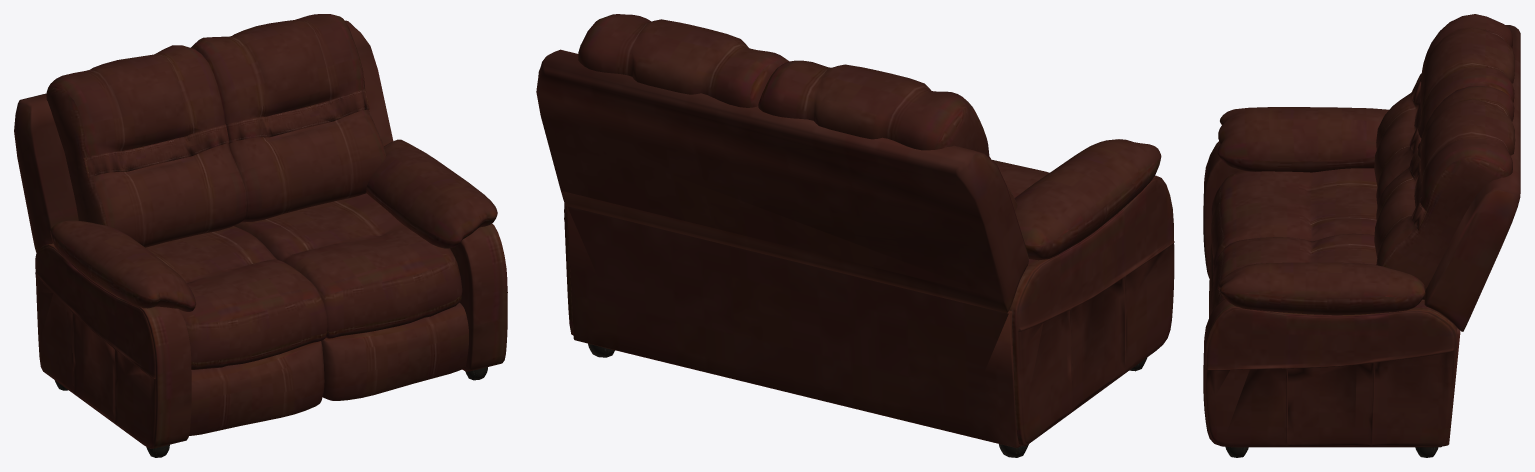
File: sofa-5.glb
3 renders of one model, left to right at view 1: azimuth 30°, elevation 25°; view 2: azimuth 150°, elevation 25°; view 3: azimuth 270°, elevation 25°, orthographic. The views are drawn at different scales.
Parts seen in each view (by area): view 1: pillow02, Pillow_l, Pillow_r, pCube36, pillow01, Hand_rest, back_frame; view 2: back_frame, pCube36, Pillow_l, Pillow_r, Hand_rest, pillow02; view 3: pCube36, Hand_rest, Pillow_r, pillow02, Pillow_l, back_frame, Legs.
Boxes of the visible parts, x1,y1,x2,y2 form: pillow02: (145,193,462,369); Pillow_l: (46,45,246,247); Pillow_r: (191,14,386,222); pCube36: (35,223,507,448); pillow01: (189,302,468,435); Hand_rest: (50,139,497,311); back_frame: (14,20,393,252); back_frame: (536,49,1028,447); pCube36: (564,175,1174,446); Pillow_l: (758,60,1017,211); Pillow_r: (578,14,788,107); Hand_rest: (1014,139,1161,260); pillow02: (992,160,1049,197); pCube36: (1203,141,1457,447); Hand_rest: (1217,107,1425,315); Pillow_r: (1374,86,1515,299); pillow02: (1211,168,1377,313); Pillow_l: (1374,14,1515,206); back_frame: (1424,25,1520,446); Legs: (1225,446,1438,457).
Size of the model in its own units: 10.51 by 7.88 by 7.64.
1 material, 1 textured.
